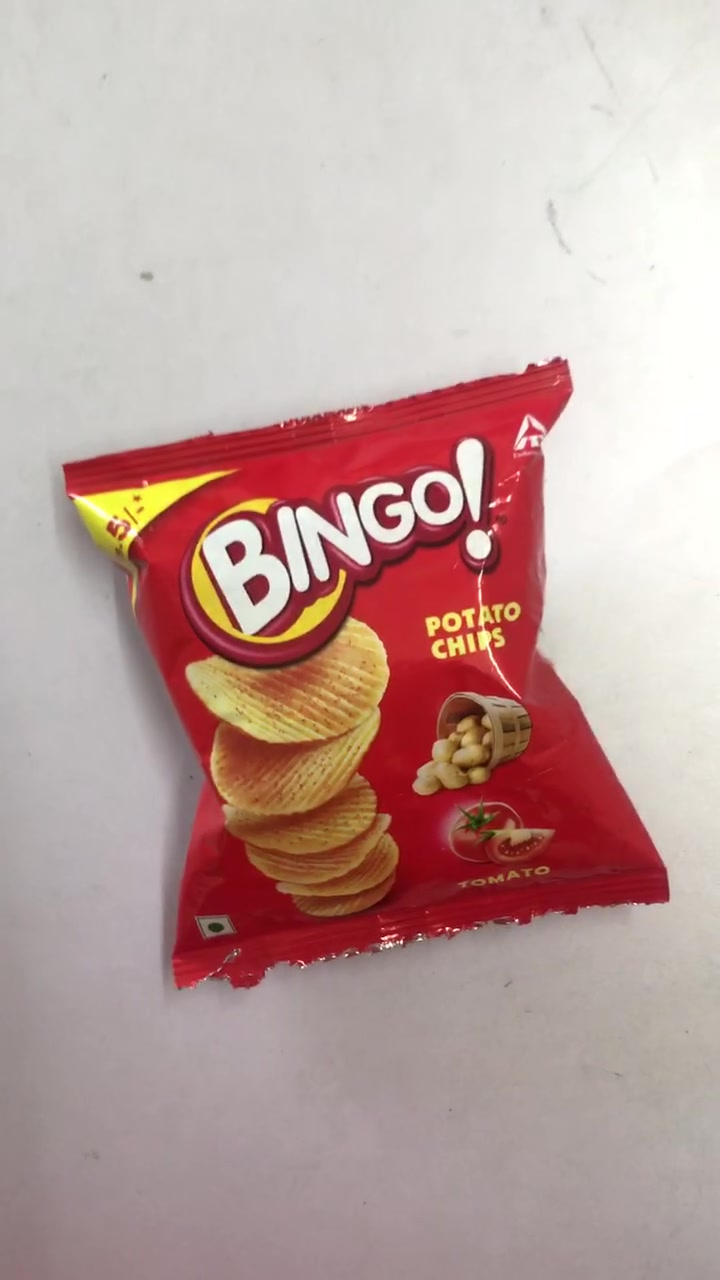Bingo: (63, 407, 669, 970)
